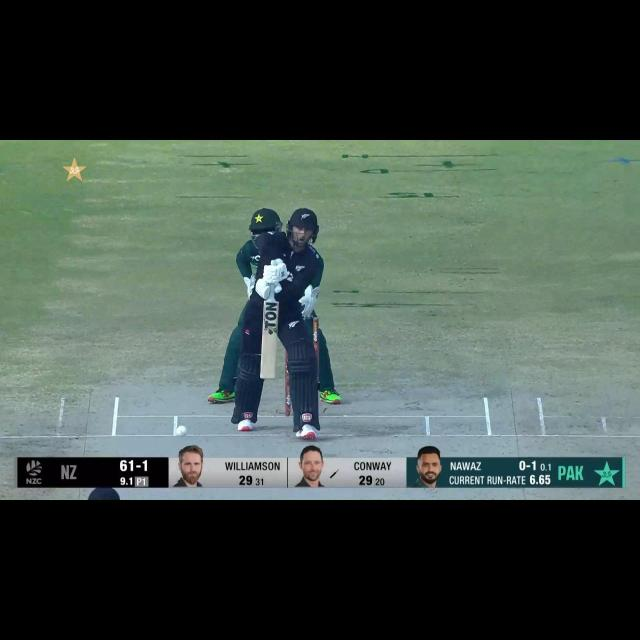bat: (258, 298, 281, 388)
toe: (259, 364, 278, 382)
